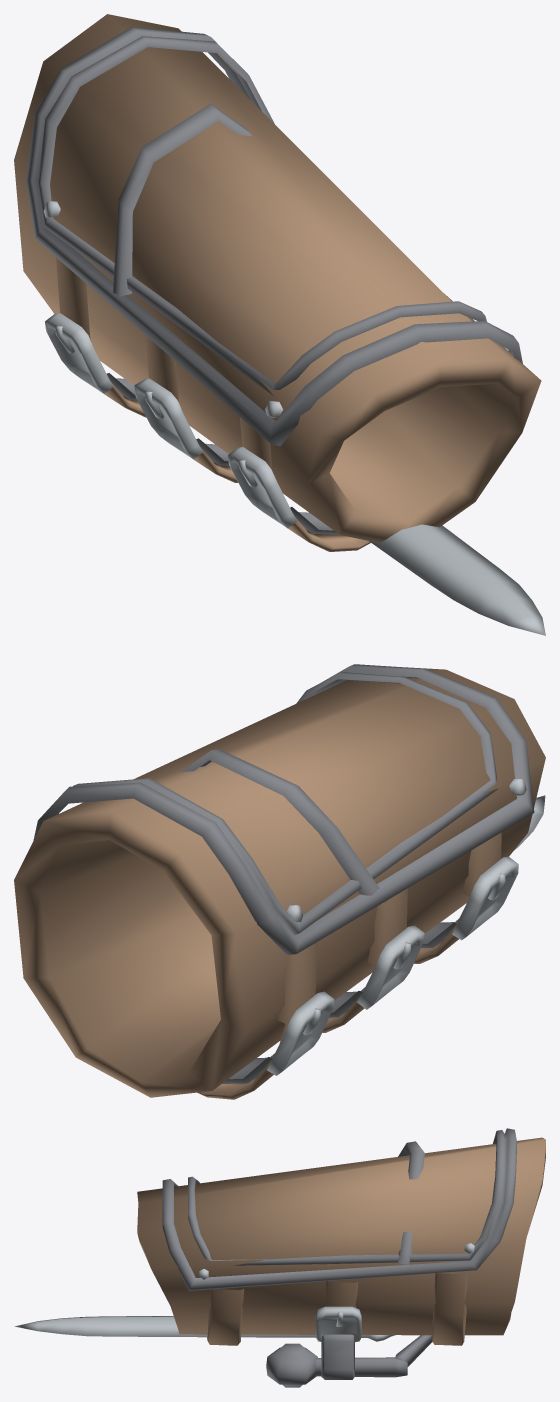
Rendered from wrist_bracer.glb.
3 renders of one model, top to bottom at view 1: azimuth 30°, elevation 25°; view 2: azimuth 150°, elevation 25°; view 3: azimuth 270°, elevation 25°, orthographic. The views are drawn at different scales.
Visible parts, largest first — view 1: wrist_bracer; view 2: wrist_bracer; view 3: wrist_bracer.
Boxes of the visible parts, x1=… form: wrist_bracer: x1=14, y1=14, x2=545, y2=635; wrist_bracer: x1=14, y1=664, x2=545, y2=1099; wrist_bracer: x1=14, y1=1128, x2=545, y2=1387.
Size of the model in its own units: 0.0786 by 0.1021 by 0.2256.
